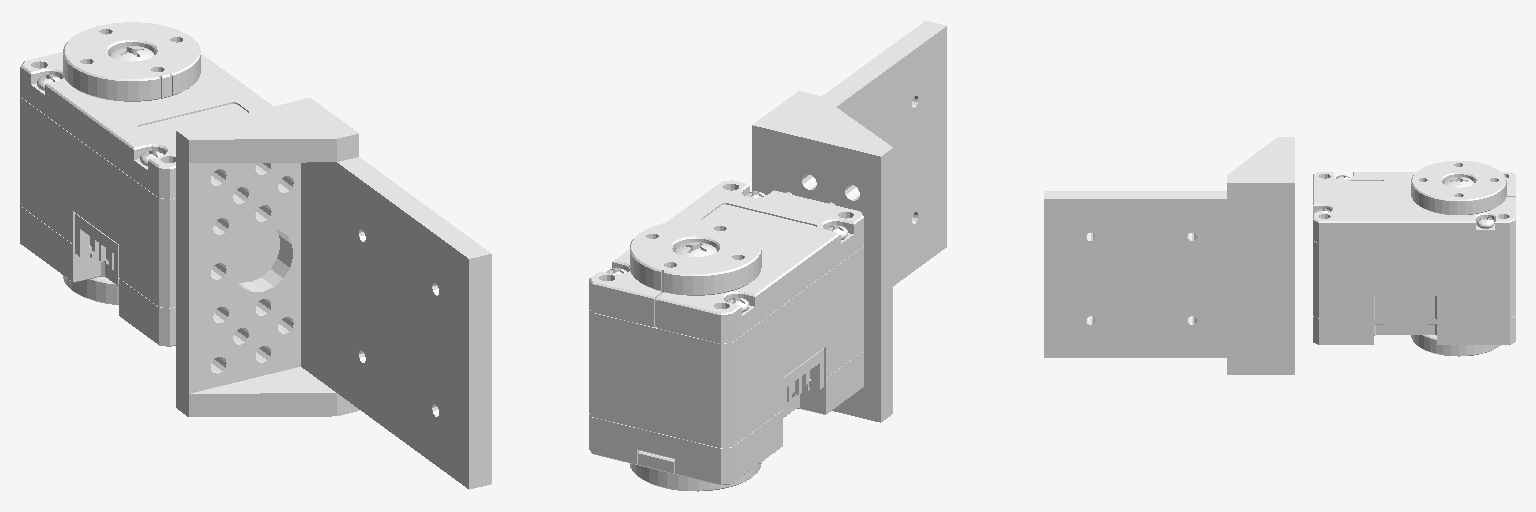
robot.urdf — thumb:
<?xml version="1.0" encoding="utf-8"?>
<!-- This URDF was automatically created by SolidWorks to URDF Exporter! Originally created by [author] ([email redacted]) 
     Commit Version: 1.6.0-4-g7f85cfe  Build Version: 1.6.7995.38578
     For more information, please see http://wiki.ros.org/sw_urdf_exporter -->
<robot
  name="thumb">
  <link
    name="motor_link">
    <inertial>
      <origin
        xyz="4.51760295610751E-06 -0.00694199680082334 -0.0142822046034371"
        rpy="0 0 0" />
      <mass
        value="0.0158646274909369" />
      <inertia
        ixx="1.5923173088897E-06"
        ixy="1.37851939825468E-09"
        ixz="-8.3976983238553E-11"
        iyy="6.5414664527114E-07"
        iyz="-2.6599064191085E-09"
        izz="1.85412894058664E-06" />
    </inertial>
    <visual>
      <origin
        xyz="0 0 0"
        rpy="0 0 0" />
      <geometry>
        <mesh
          filename="package://thumb/meshes/motor_link.STL" />
      </geometry>
      <material
        name="">
        <color
          rgba="1 1 1 1" />
      </material>
    </visual>
    <collision>
      <origin
        xyz="0 0 0"
        rpy="0 0 0" />
      <geometry>
        <mesh
          filename="package://thumb/meshes/motor_link.STL" />
      </geometry>
    </collision>
  </link>
  <link
    name="thumb_pip_link">
    <inertial>
      <origin
        xyz="4.95760791597358E-19 -0.00189387734659092 3.46944695195361E-18"
        rpy="0 0 0" />
      <mass
        value="0.00160614735192622" />
      <inertia
        ixx="1.43117938640444E-07"
        ixy="-5.55047285060956E-24"
        ixz="1.34800551484166E-23"
        iyy="1.97543341584057E-07"
        iyz="1.65264505121979E-23"
        izz="6.03730302729034E-08" />
    </inertial>
    <visual>
      <origin
        xyz="0 0 0"
        rpy="0 0 0" />
      <geometry>
        <mesh
          filename="package://thumb/meshes/thumb_pip_link.STL" />
      </geometry>
      <material
        name="">
        <color
          rgba="1 1 1 1" />
      </material>
    </visual>
    <collision>
      <origin
        xyz="0 0 0"
        rpy="0 0 0" />
      <geometry>
        <mesh
          filename="package://thumb/meshes/thumb_pip_link.STL" />
      </geometry>
    </collision>
  </link>
  <joint
    name="thumb_pip_joint"
    type="fixed">
    <origin
      xyz="0 -0.0275 -0.014500000000011"
      rpy="0 0 3.14159265358979" />
    <parent
      link="motor_link" />
    <child
      link="thumb_pip_link" />
    <axis
      xyz="0 0 0" />
  </joint>
  <link
    name="connect_link">
    <inertial>
      <origin
        xyz="0.00411765424561172 -0.0148300279082091 0.01775"
        rpy="0 0 0" />
      <mass
        value="0.00557866650364624" />
      <inertia
        ixx="1.54542696836901E-06"
        ixy="-1.85486908918896E-07"
        ixz="-3.90819007565849E-23"
        iyy="7.02952909902168E-07"
        iyz="1.68799065159474E-22"
        izz="1.09293721480962E-06" />
    </inertial>
    <visual>
      <origin
        xyz="0 0 0"
        rpy="0 0 0" />
      <geometry>
        <mesh
          filename="package://thumb/meshes/connect_link.STL" />
      </geometry>
      <material
        name="">
        <color
          rgba="1 1 1 1" />
      </material>
    </visual>
    <collision>
      <origin
        xyz="0 0 0"
        rpy="0 0 0" />
      <geometry>
        <mesh
          filename="package://thumb/meshes/connect_link.STL" />
      </geometry>
    </collision>
  </link>
  <joint
    name="connect_joint"
    type="fixed">
    <origin
      xyz="-0.008 0 0.01775"
      rpy="-3.14159265358979 0 0" />
    <parent
      link="thumb_pip_link" />
    <child
      link="connect_link" />
    <axis
      xyz="0 0 0" />
  </joint>
  <link
    name="sensor_Link">
    <inertial>
      <origin
        xyz="5.45305664510776E-06 0.0133276953142146 -5.04567791665567E-05"
        rpy="0 0 0" />
      <mass
        value="0.0178822084321402" />
      <inertia
        ixx="1.17533922867296E-06"
        ixy="4.11691121828177E-12"
        ixz="-2.43893955468406E-11"
        iyy="2.53546070357286E-06"
        iyz="-2.92731616575703E-09"
        izz="1.78912273854956E-06" />
    </inertial>
    <visual>
      <origin
        xyz="0 0 0"
        rpy="0 0 0" />
      <geometry>
        <mesh
          filename="package://thumb/meshes/sensor_Link.STL" />
      </geometry>
      <material
        name="">
        <color
          rgba="1 1 1 1" />
      </material>
    </visual>
    <collision>
      <origin
        xyz="0 0 0"
        rpy="0 0 0" />
      <geometry>
        <mesh
          filename="package://thumb/meshes/sensor_Link.STL" />
      </geometry>
    </collision>
  </link>
  <joint
    name="sensor_joint"
    type="fixed">
    <origin
      xyz="0.003 -0.02575 0.01775"
      rpy="3.14159265358979 0 1.5707963267949" />
    <parent
      link="connect_link" />
    <child
      link="sensor_Link" />
    <axis
      xyz="0 0 0" />
  </joint>
</robot>

--- Render facts (derived) ---
The picture shows the robot from 3 angles, left to right: view 1: azimuth 30°, elevation 25°; view 2: azimuth 150°, elevation 25°; view 3: azimuth 270°, elevation 25°; orthographic projection.
Robot: thumb — 4 links, 3 joints (3 fixed); root link motor_link; default pose: all joints at 0.
Links seen in each view (by area): view 1: connect_link, motor_link; view 2: motor_link, connect_link; view 3: connect_link, motor_link.
Link boxes in pixels (<box>): connect_link: <box>176,98,491,489</box>; motor_link: <box>20,22,279,346</box>; motor_link: <box>589,180,863,491</box>; connect_link: <box>752,21,946,422</box>; connect_link: <box>1044,137,1294,374</box>; motor_link: <box>1313,161,1515,356</box>.
Size in the robot's own frame: 0.02 by 0.079 by 0.0355 metres.
Meshes: 4 distinct files referenced, 2 mesh visuals loaded (2 binary STL); not drawn: 2 (reference not matched to a file when rendering).